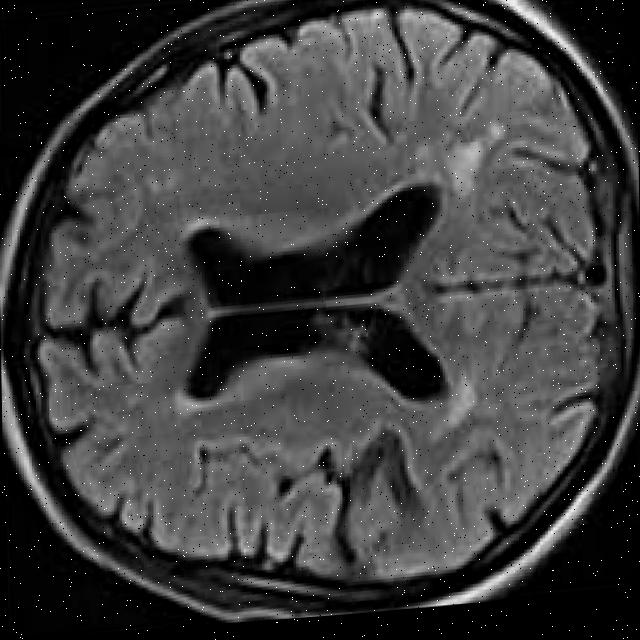NoTumor: (16, 0, 622, 621)
